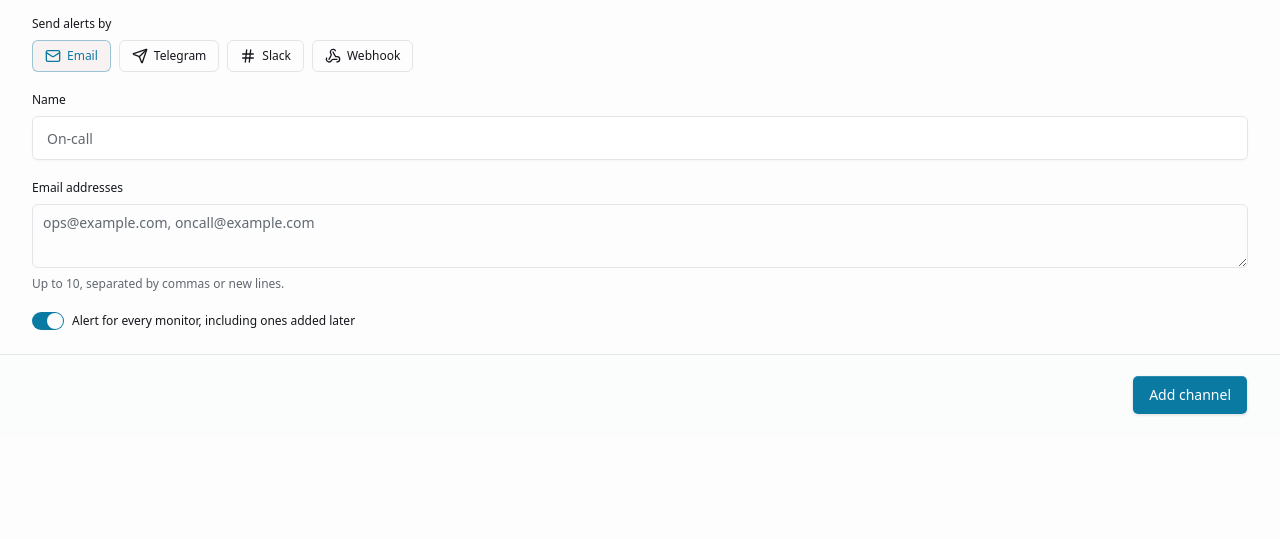
Test: Channel form › refuses a scoped channel with no monitors
Type "Ops" into the field labelled "Name" at (640, 138), box x1=32 y1=116 x2=1248 y2=160
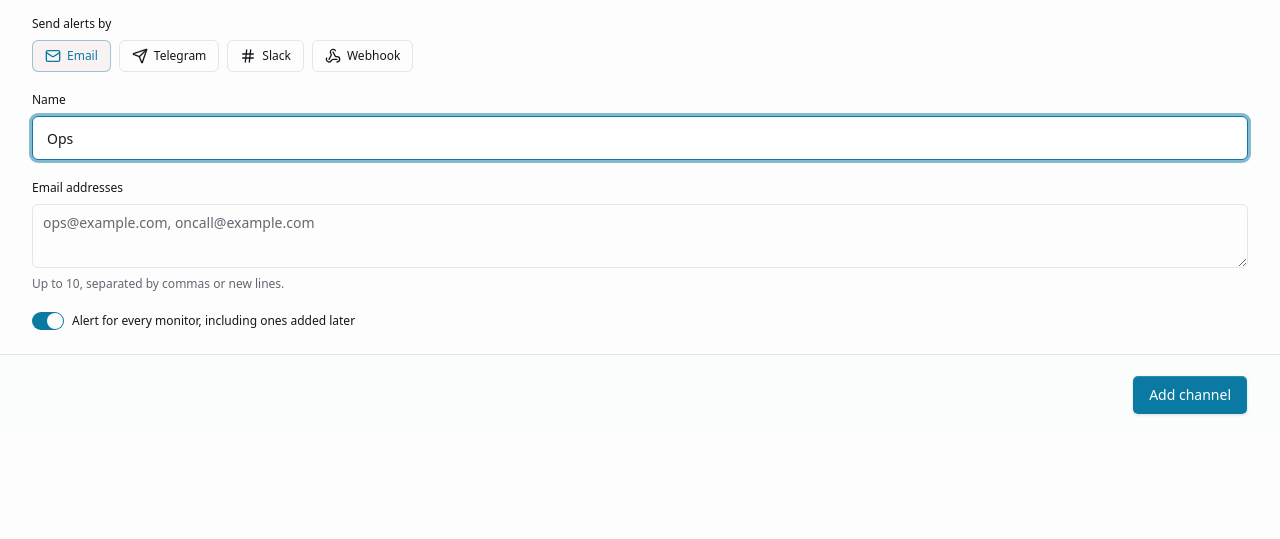
Type "ops@example.com" into the text box labelled "Email addresses" at (640, 236), box x1=32 y1=204 x2=1248 y2=268
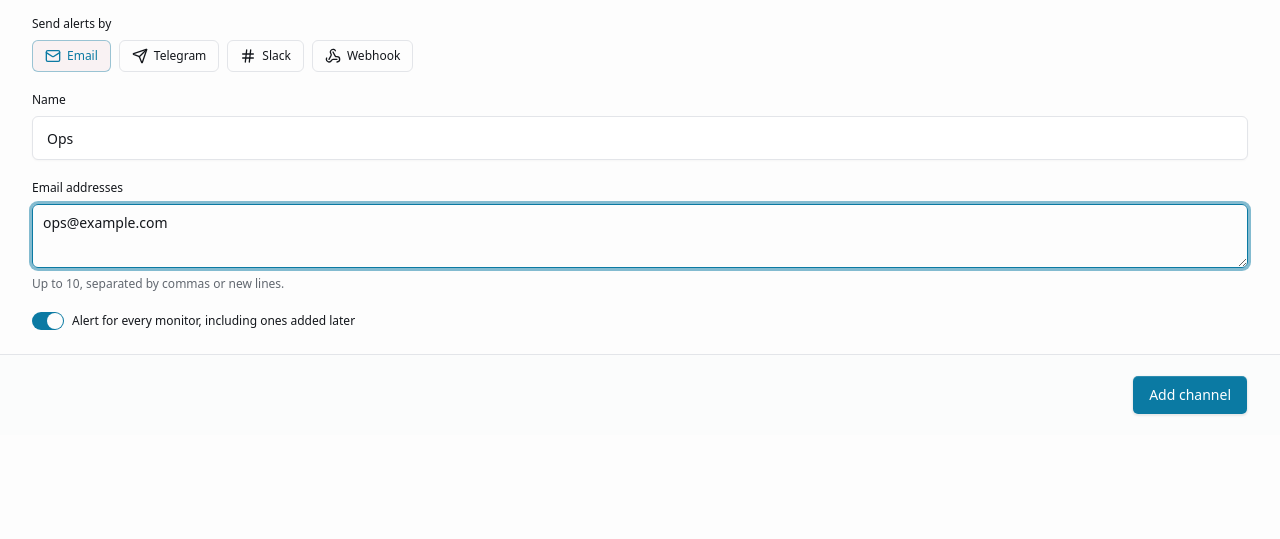
Click the switch named "Alert for every monitor" at (48, 321), box x1=32 y1=312 x2=64 y2=330
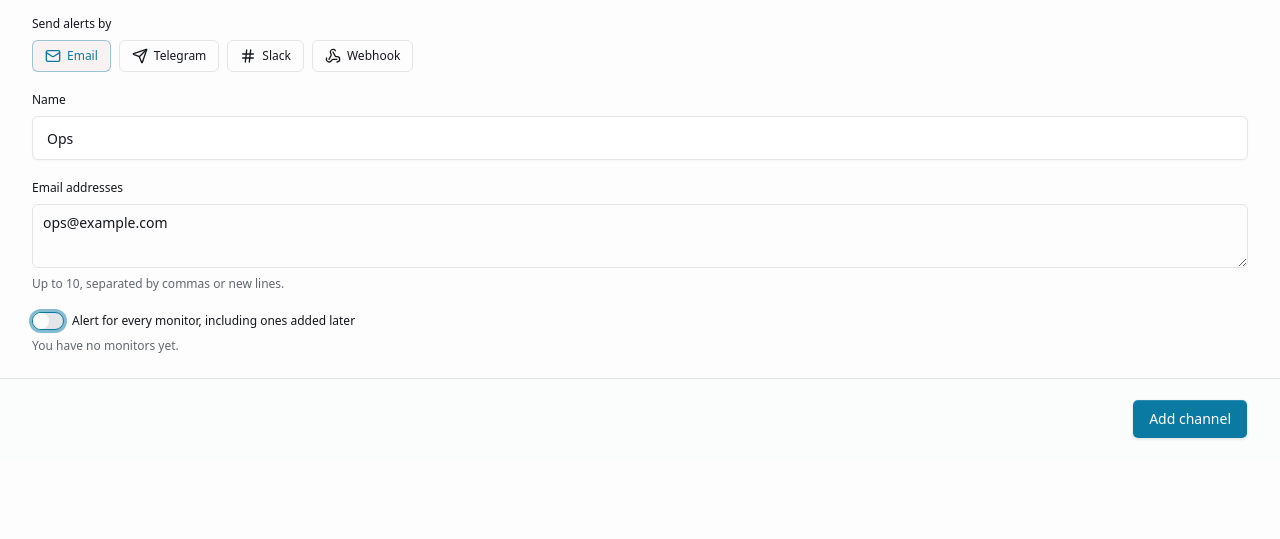
Click the button "Add channel" at (1190, 419), box x1=1132 y1=399 x2=1248 y2=439
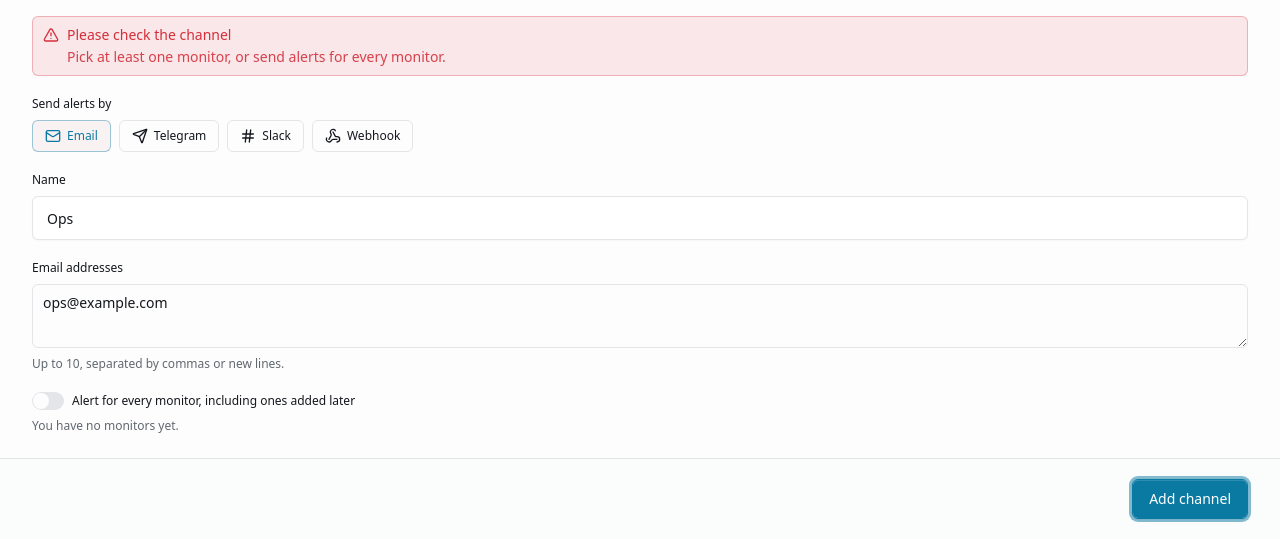
expect the text "Pick at least one monitor, or send alerts for every monitor." is shown: met, box x1=67 y1=47 x2=446 y2=66
